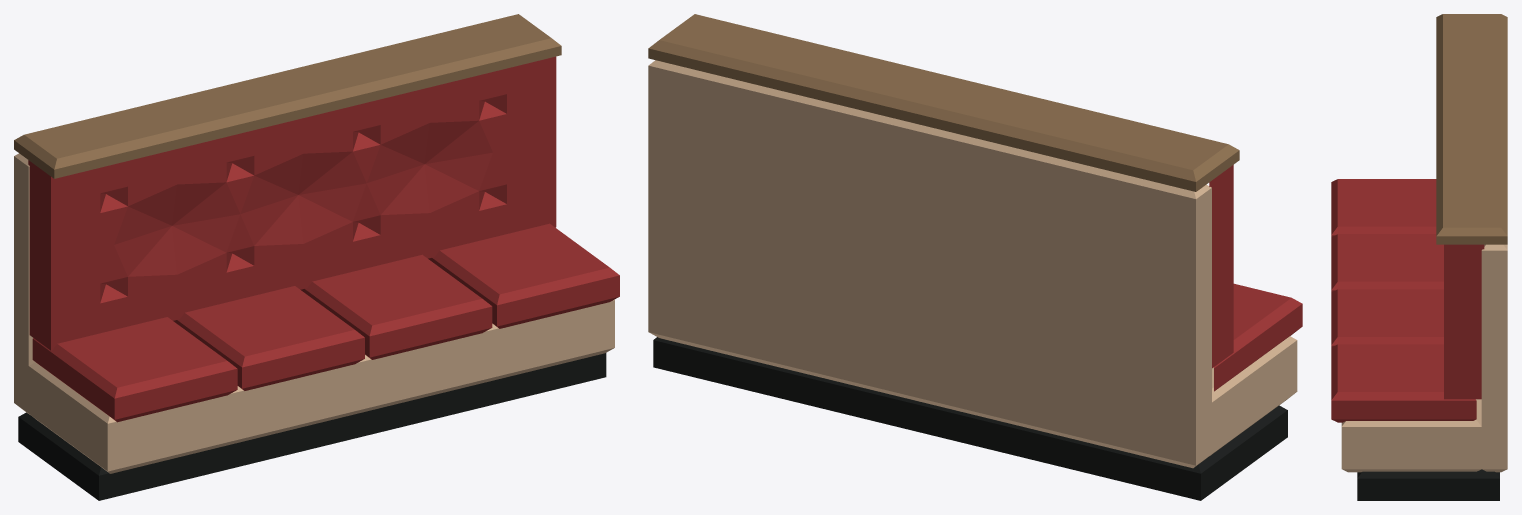
File: balcony_sofa.glb
3 views of the same model, side by side, from view 1: azimuth 30°, elevation 25°; view 2: azimuth 150°, elevation 25°; view 3: azimuth 270°, elevation 25° (orthographic). The views are drawn at different scales.
Visible parts, largest first — view 1: mesh_0; view 2: mesh_0; view 3: mesh_0.
Boxes of the visible parts, left/top/right/bottom form: mesh_0: left=14, top=14, right=619, bottom=500; mesh_0: left=648, top=14, right=1302, bottom=500; mesh_0: left=1331, top=14, right=1507, bottom=500.
Size of the model in its own units: 2 by 1.15 by 0.68.
